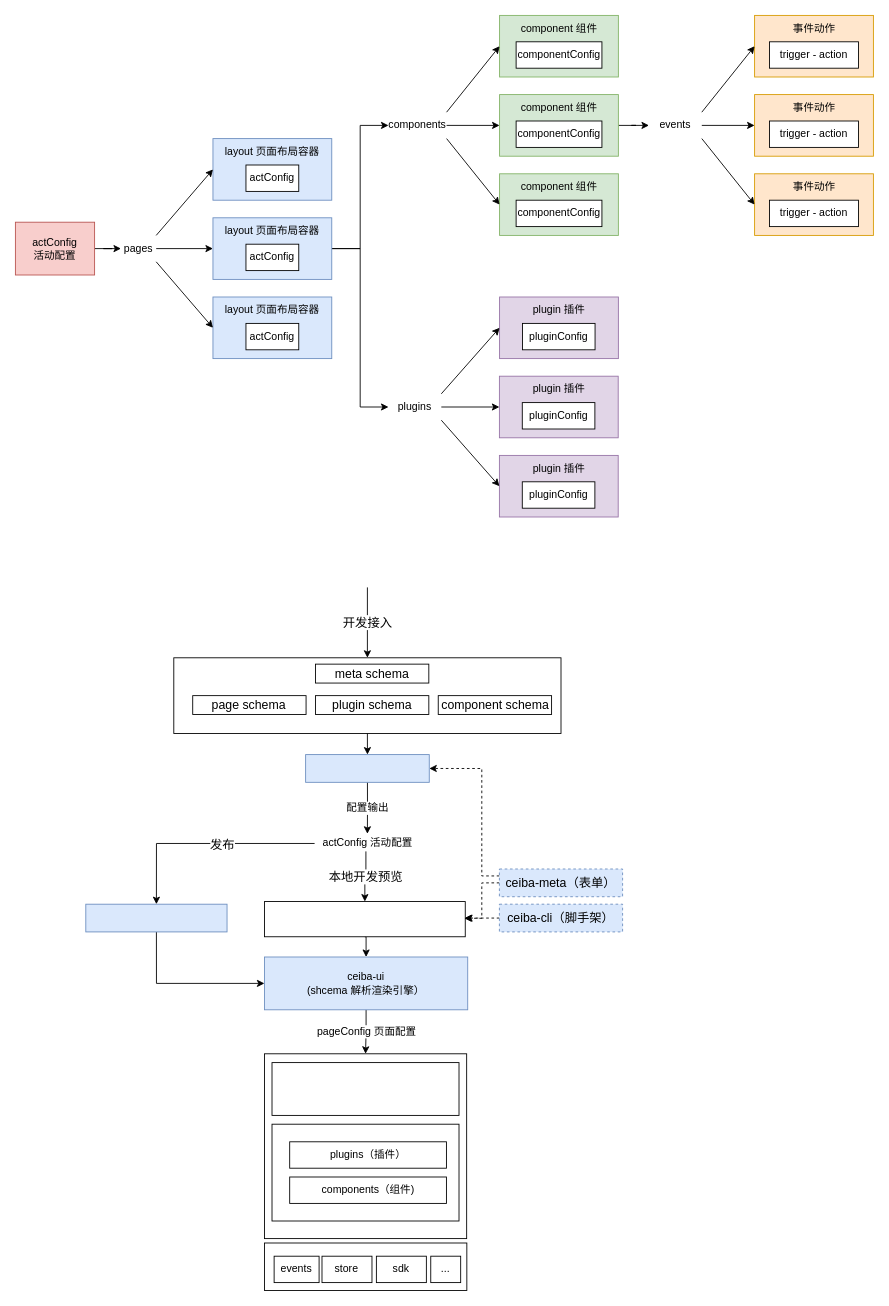
This 889x1306 diagram has some shape labels left out. Each missing label, with the centre of its shape:
act-{astName}-components （业务组件仓库）: point (364, 919)
ceiba-bundler（打包构建）: point (156, 917)
ceiba-editor（编辑器）: point (367, 768)
layout container（页面容器）: point (365, 1088)
